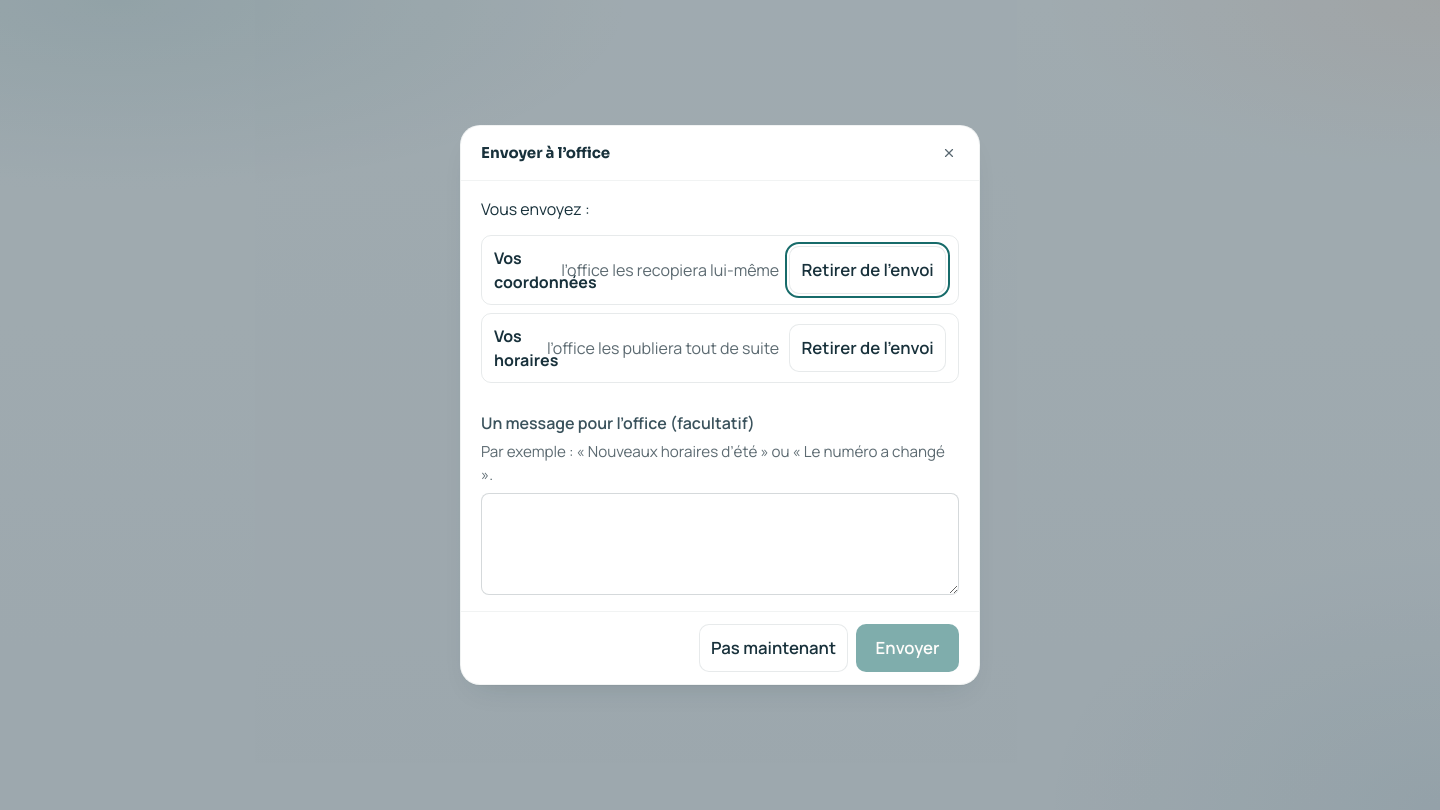
Test: PortalSendModal › ne soumet pas tant qu’un conflit de reprise du brouillon reste à vérifier
Step 1. Click the button "Envoyer" → coordinates (908, 648), box [856,624,959,672]
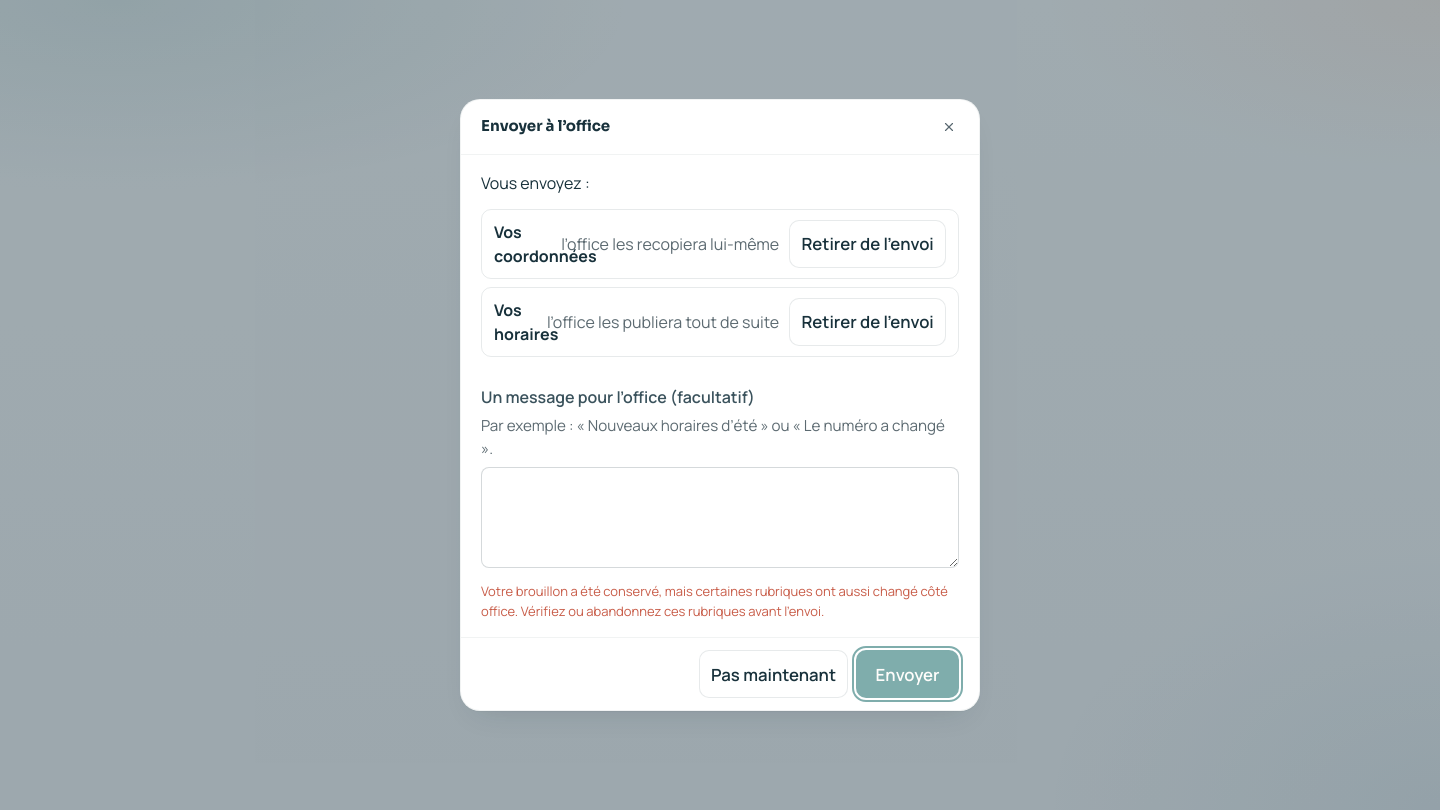
Expected: the text "brouillon a été conservé" is shown, [481,582,948,620]
